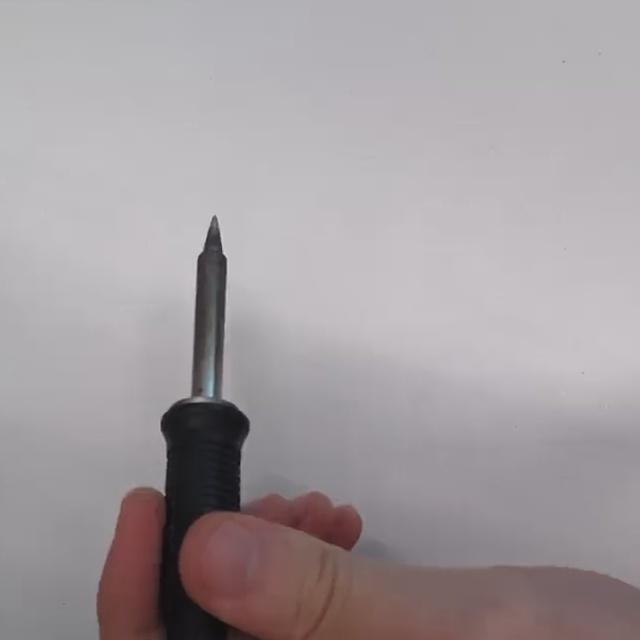soldering_iron: (155, 216, 252, 640)
